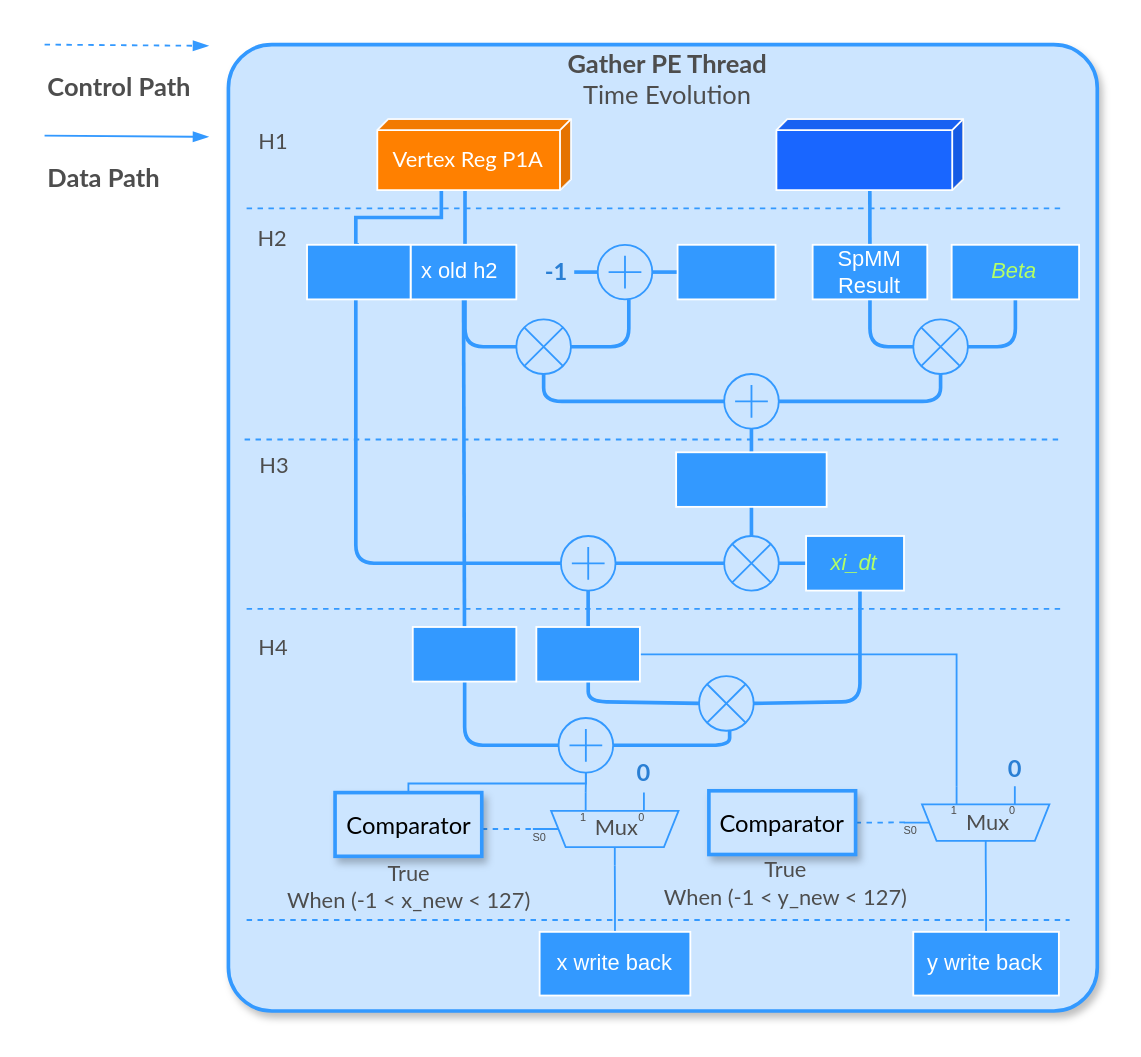
This 1141x1057 diagram has some shape labels left out. The centre of each missing label's shape, as x and y in pixels:
"alpha" belongs at pixel 726 271.
"Updated Reg S1" belongs at pixel 869 153.
"x old h3" belongs at pixel 463 653.
"y new h3" belongs at pixel 587 653.
"y old h2" belongs at pixel 358 271.
"y temp h2" belongs at pixel 750 478.
